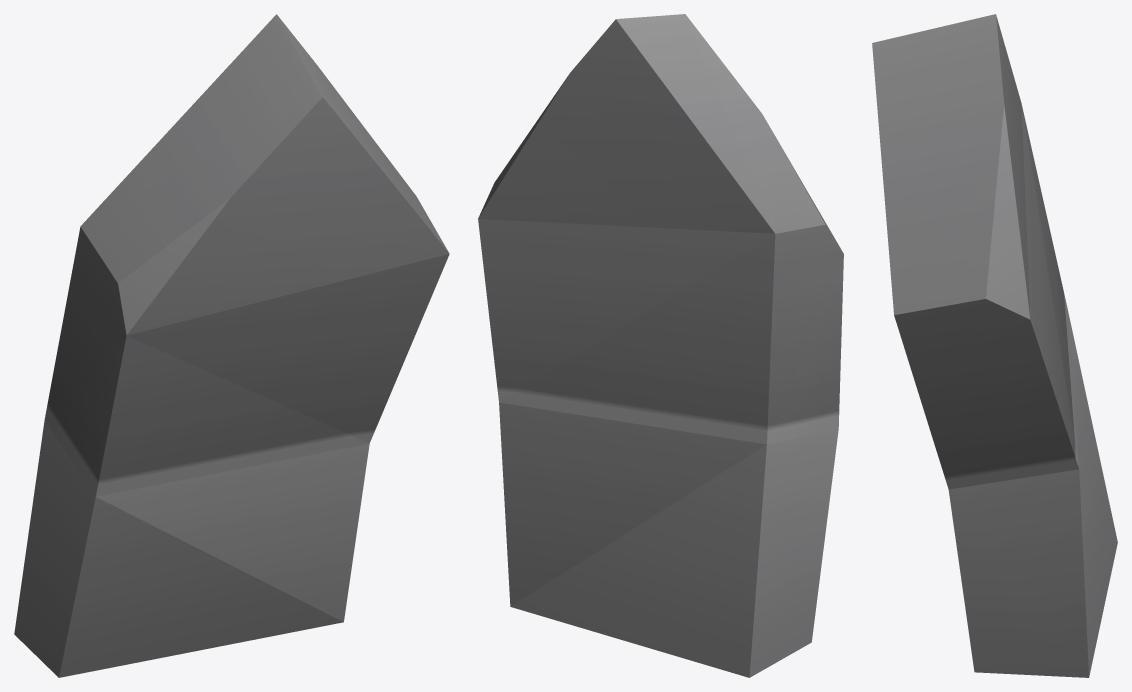
Rendered from ea_grave_stone_mini_01c_pre__18__lev1.glb.
The picture shows the model from 3 angles, left to right: view 1: azimuth 30°, elevation 25°; view 2: azimuth 150°, elevation 25°; view 3: azimuth 270°, elevation 25°; orthographic projection. The views are drawn at different scales.
Parts seen in each view (by area): view 1: ea_grave_stone_mini_01c_pre__18__lev1; view 2: ea_grave_stone_mini_01c_pre__18__lev1; view 3: ea_grave_stone_mini_01c_pre__18__lev1.
Part boxes in pixels (x1,y1,x2,y2): ea_grave_stone_mini_01c_pre__18__lev1: [14, 14, 449, 677]; ea_grave_stone_mini_01c_pre__18__lev1: [478, 14, 843, 677]; ea_grave_stone_mini_01c_pre__18__lev1: [872, 14, 1117, 677].
Size of the model in its own units: 0.785 by 1.32 by 0.4668.
1 material, 1 textured.
